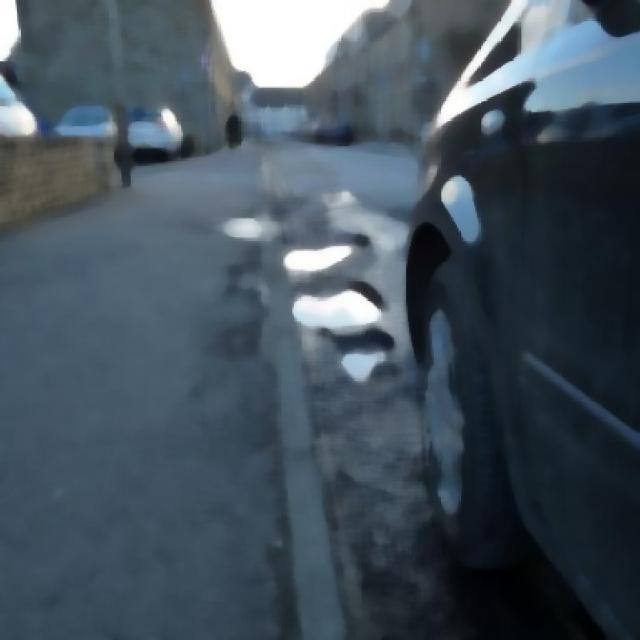pothole: (290, 283, 390, 343), (282, 222, 375, 279)
